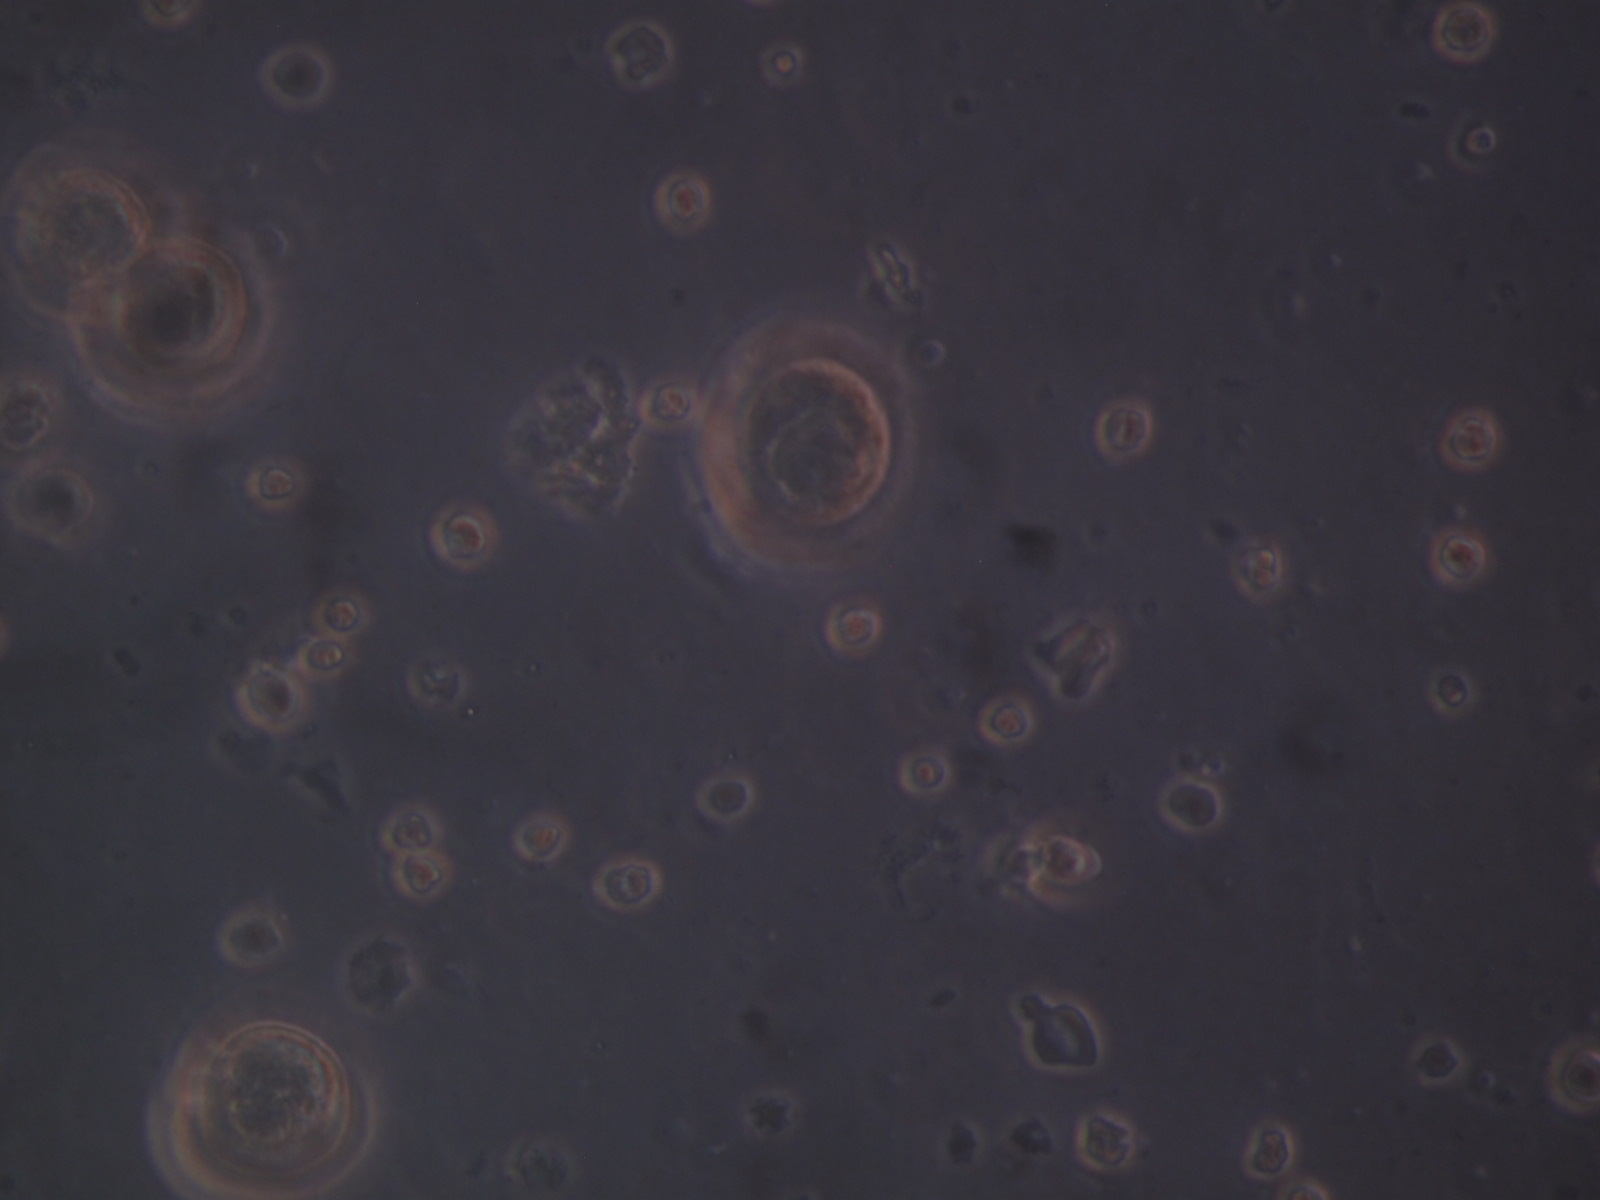hemo: (1028, 1002, 1105, 1071), (237, 666, 307, 735), (606, 19, 674, 91), (431, 500, 495, 571), (265, 45, 333, 110), (1430, 1, 1493, 66), (1, 378, 54, 453), (1547, 1042, 1600, 1116), (593, 856, 661, 911), (217, 909, 283, 964), (1440, 408, 1498, 471), (1077, 1105, 1133, 1171), (1159, 778, 1223, 833), (404, 653, 469, 708), (1231, 537, 1285, 603), (823, 599, 884, 655), (653, 170, 711, 228), (738, 1088, 796, 1145), (1095, 401, 1151, 458), (1430, 527, 1485, 584), (509, 813, 569, 865), (1243, 1124, 1296, 1182), (247, 456, 304, 509), (393, 850, 454, 897), (1449, 113, 1495, 175), (979, 695, 1034, 746), (386, 803, 442, 853), (1044, 833, 1102, 882), (1410, 1035, 1461, 1087), (641, 381, 695, 430), (699, 775, 753, 823), (299, 635, 351, 682), (316, 591, 370, 637), (900, 749, 951, 794), (1429, 668, 1471, 713), (760, 42, 804, 84)
